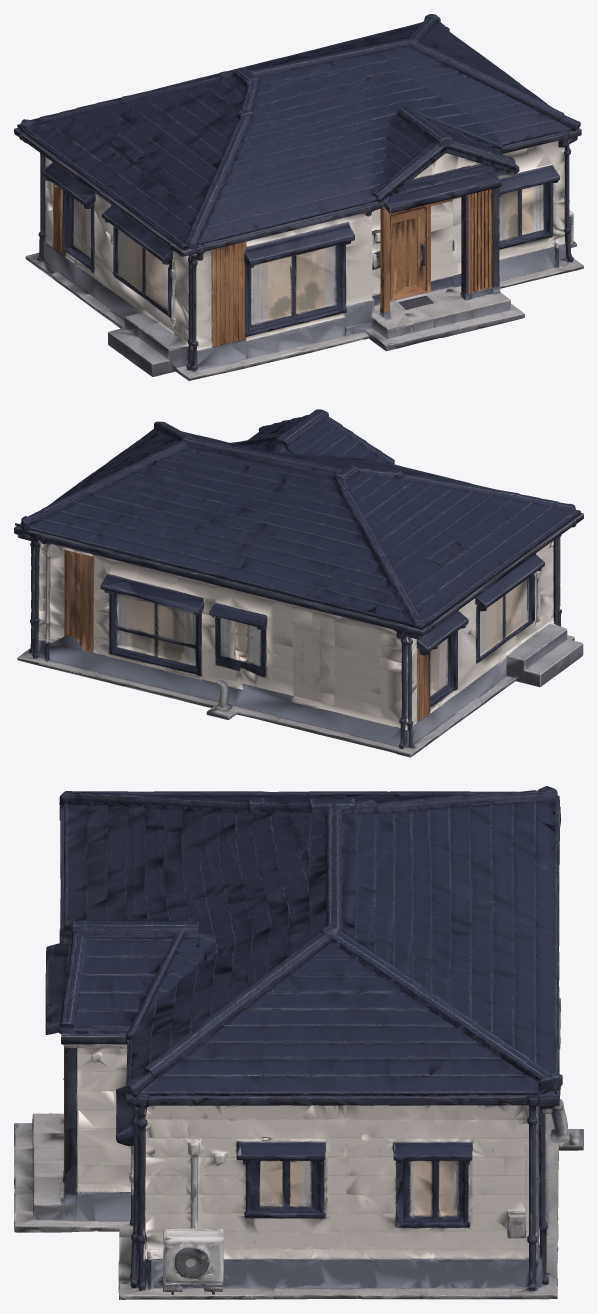
Rendered from building_house_small_a_model.glb.
3 renders of one model, top to bottom at view 1: azimuth 30°, elevation 25°; view 2: azimuth 150°, elevation 25°; view 3: azimuth 270°, elevation 25°, orthographic. The views are drawn at different scales.
Parts seen in each view (by area): view 1: Mesh_0; view 2: Mesh_0; view 3: Mesh_0.
Boxes of the visible parts, box(x1,y1,x2,y2) form: Mesh_0: box(14, 14, 583, 380); Mesh_0: box(14, 409, 583, 757); Mesh_0: box(14, 786, 583, 1299).
Bounding box in the file's own units: 9.33 × 4.2 × 6.98.
1 material, 1 textured.
